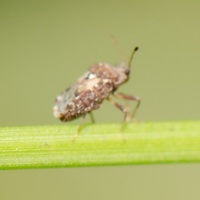insect: (53, 47, 140, 140)
